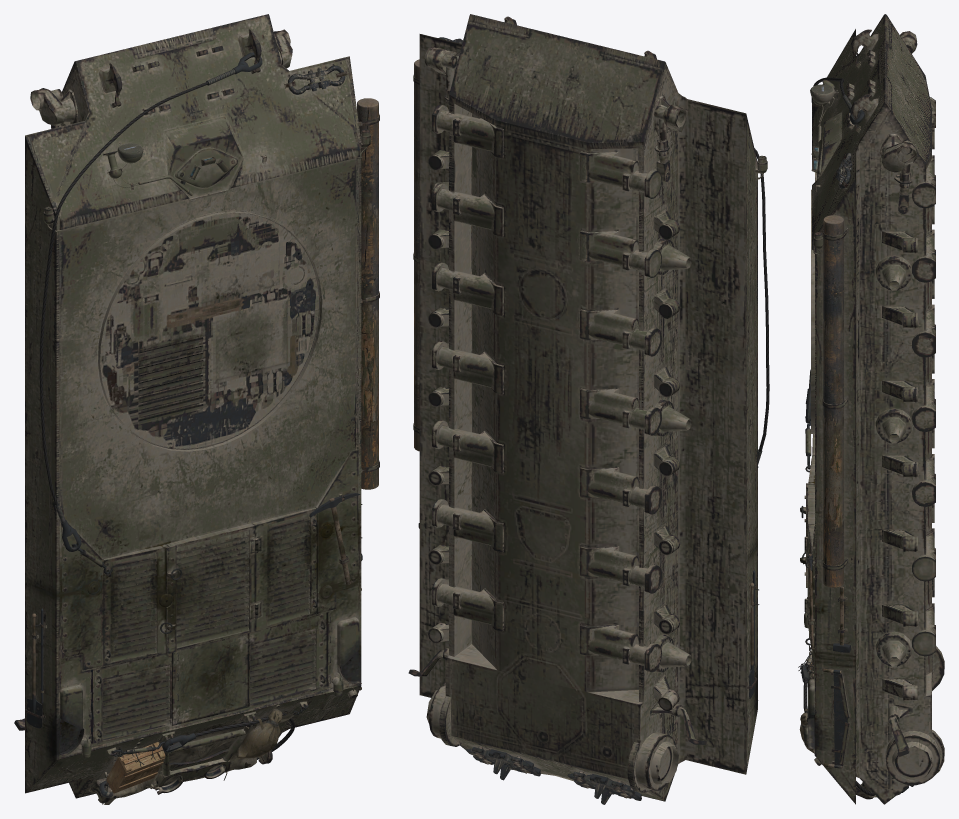
Rendered from Hull.glb.
The picture shows the model from 3 angles, left to right: view 1: azimuth 30°, elevation 25°; view 2: azimuth 150°, elevation 25°; view 3: azimuth 270°, elevation 25°; orthographic projection. The views are drawn at different scales.
Parts seen in each view (by area): view 1: set_0_group_0; view 2: set_0_group_0; view 3: set_0_group_0.
Part boxes in pixels (<box>): set_0_group_0: <box>14,14,379,804</box>; set_0_group_0: <box>408,14,769,804</box>; set_0_group_0: <box>798,14,944,804</box>.
Size of the model in its own units: 3.58 by 7.35 by 1.38.
Materials: 1 (1 with a texture image).
